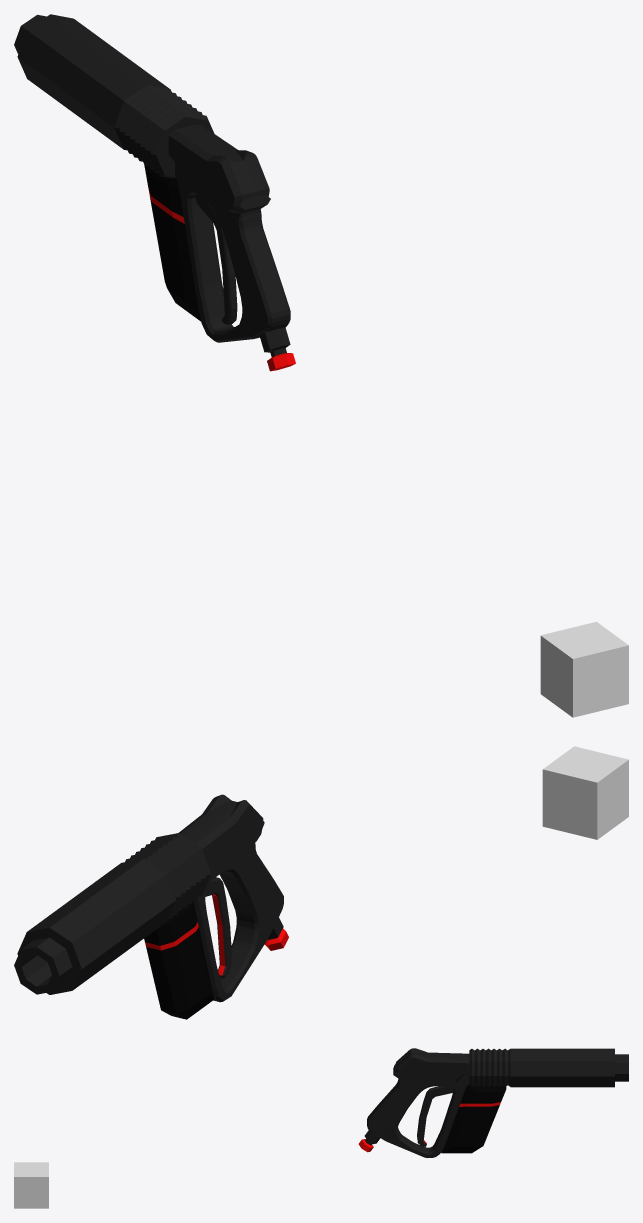
Rendered from PRESSURE.glb.
3 renders of one model, top to bottom at view 1: azimuth 30°, elevation 25°; view 2: azimuth 150°, elevation 25°; view 3: azimuth 270°, elevation 25°, orthographic. The views are drawn at different scales.
Parts seen in each view (by area): view 1: Cylinder.007, Cube; view 2: Cylinder.007, Cube; view 3: Cylinder.007, Cube.
Part boxes in pixels (box(x1,y1,x2,y2)): Cylinder.007: box(14, 14, 295, 371); Cube: box(540, 621, 628, 717); Cylinder.007: box(14, 794, 288, 1019); Cube: box(542, 746, 628, 839); Cylinder.007: box(358, 1048, 628, 1157); Cube: box(14, 1162, 48, 1208).
Bounding box in the file's own units: 0.1017 × 0.4039 × 1.46.
